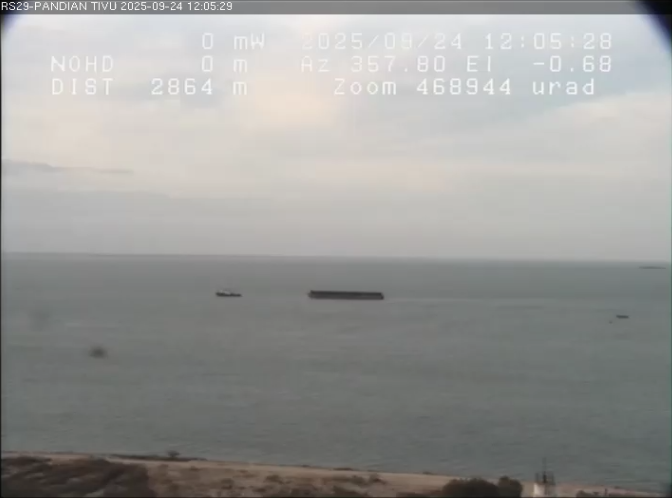BARGE: (294, 278, 394, 318)
FISHING_BOAT: (606, 307, 642, 328)
OFFSHORE_SUPPLY_VESSEL: (200, 275, 247, 304)
TOWING: (170, 244, 455, 369)
